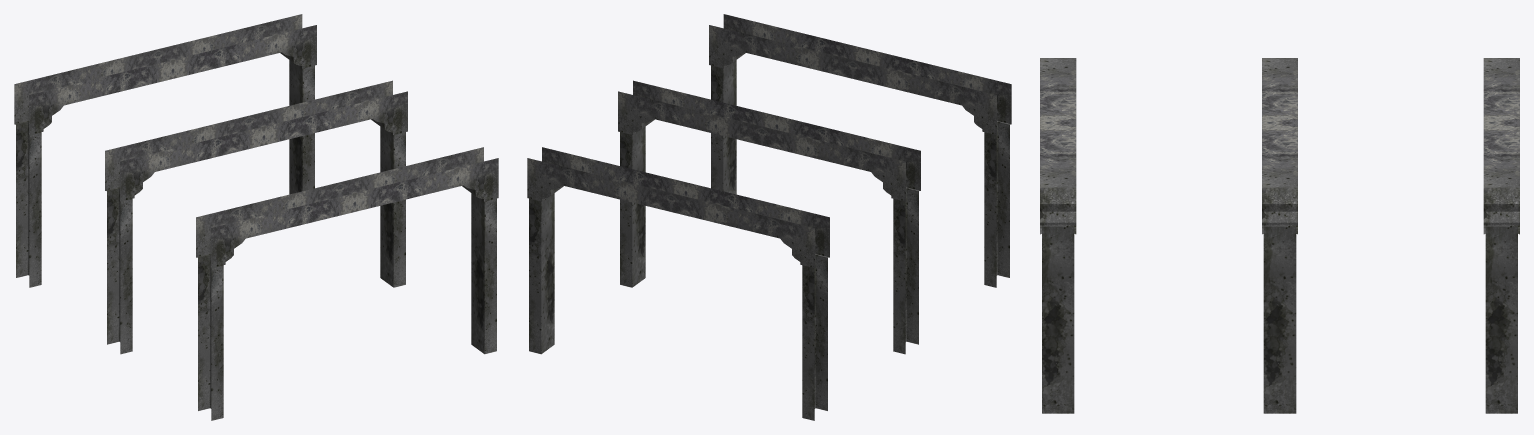
File: colonnes.gltf
3 views of the same model, side by side, from view 1: azimuth 30°, elevation 25°; view 2: azimuth 150°, elevation 25°; view 3: azimuth 270°, elevation 25° (orthographic). The views are drawn at different scales.
Parts seen in each view (by area): view 1: Column; view 2: Column; view 3: Column.
Boxes of the visible parts, left/top/right/bottom form: Column: left=14, top=14, right=498, bottom=420; Column: left=527, top=14, right=1011, bottom=420; Column: left=1040, top=58, right=1519, bottom=413.
Size of the model in its own units: 4.61 by 2.96 by 5.45.
1 material, 1 textured.
